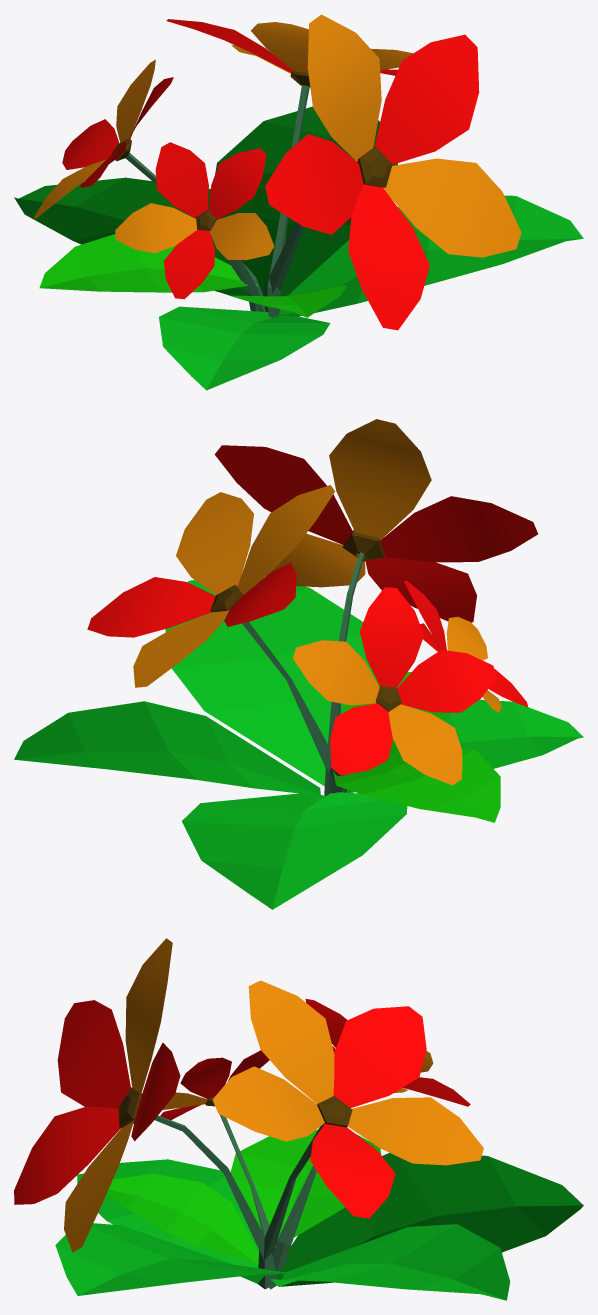
Rendered from wl_redFlower_01.fbx.
The picture shows the model from 3 angles, top to bottom: view 1: azimuth 30°, elevation 25°; view 2: azimuth 150°, elevation 25°; view 3: azimuth 270°, elevation 25°; orthographic projection. The views are drawn at different scales.
Visible parts, largest first — view 1: redFlower_01; view 2: redFlower_01; view 3: redFlower_01.
Part boxes in pixels (box(x1,y1,x2,y2)): redFlower_01: box(14, 14, 583, 390); redFlower_01: box(14, 419, 583, 909); redFlower_01: box(14, 938, 583, 1300).
Size of the model in its own units: 54.47 by 42.67 by 63.76.
